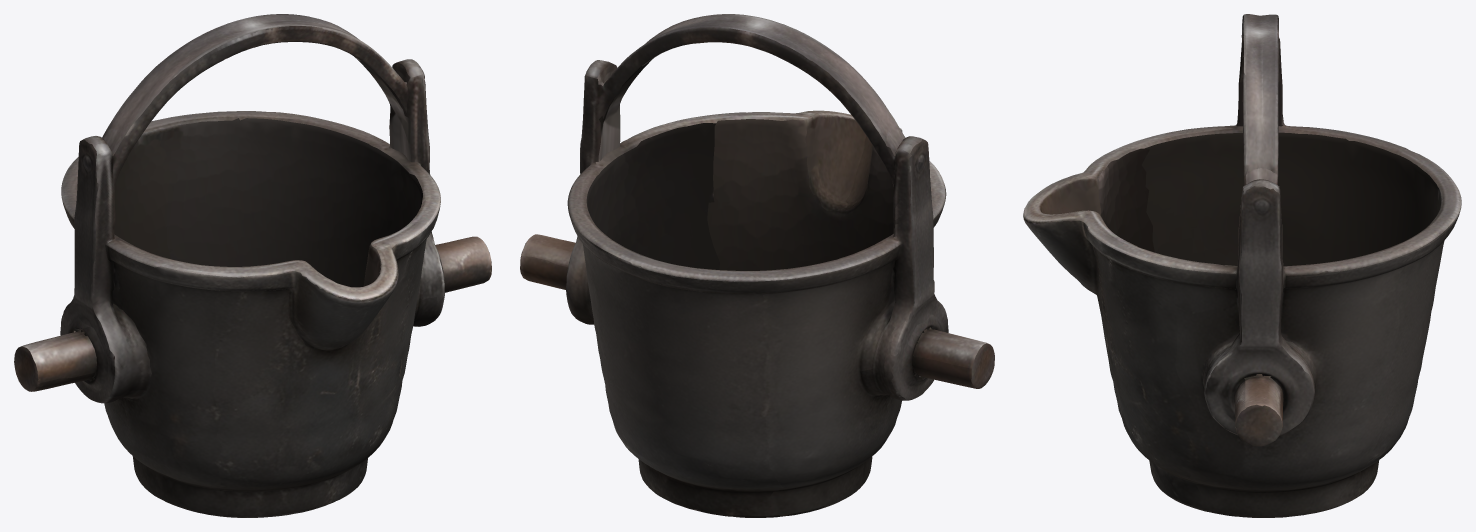
The model's file is ladle.glb.
The picture shows the model from 3 angles, left to right: view 1: azimuth 30°, elevation 25°; view 2: azimuth 150°, elevation 25°; view 3: azimuth 270°, elevation 25°; orthographic projection.
Parts seen in each view (by area): view 1: tmpqv8uvznn.ply; view 2: tmpqv8uvznn.ply; view 3: tmpqv8uvznn.ply.
Boxes of the visible parts, <box> form: tmpqv8uvznn.ply: <box>14,14,491,517</box>; tmpqv8uvznn.ply: <box>520,14,994,517</box>; tmpqv8uvznn.ply: <box>1023,14,1461,517</box>.
Bounding box in the file's own units: 1.96 × 1.84 × 1.66.
1 material, 1 textured.
